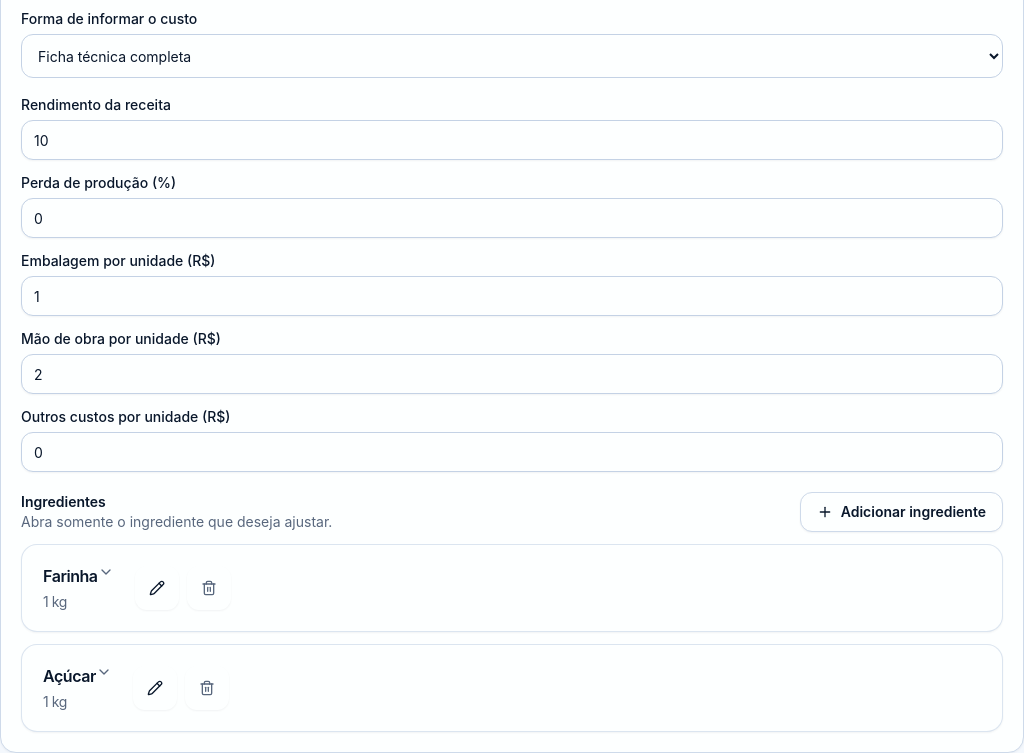
Test: DetailedReportEditorFields › preserves ingredients until removal is confirmed
(page scrolled)
Click the button named "Remover Farinha" at (209, 588), box [187, 566, 231, 610]
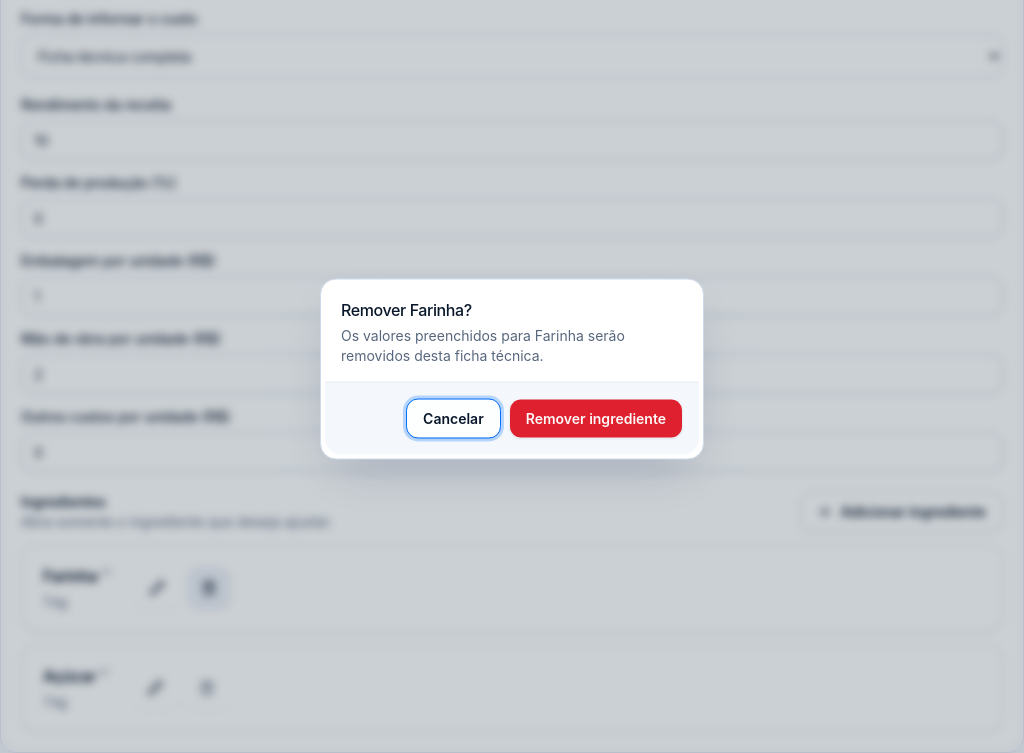
Expected: the text "Farinha" is shown, [43, 564, 98, 588]
Click the button "Cancelar" at (453, 418), box [406, 398, 501, 438]
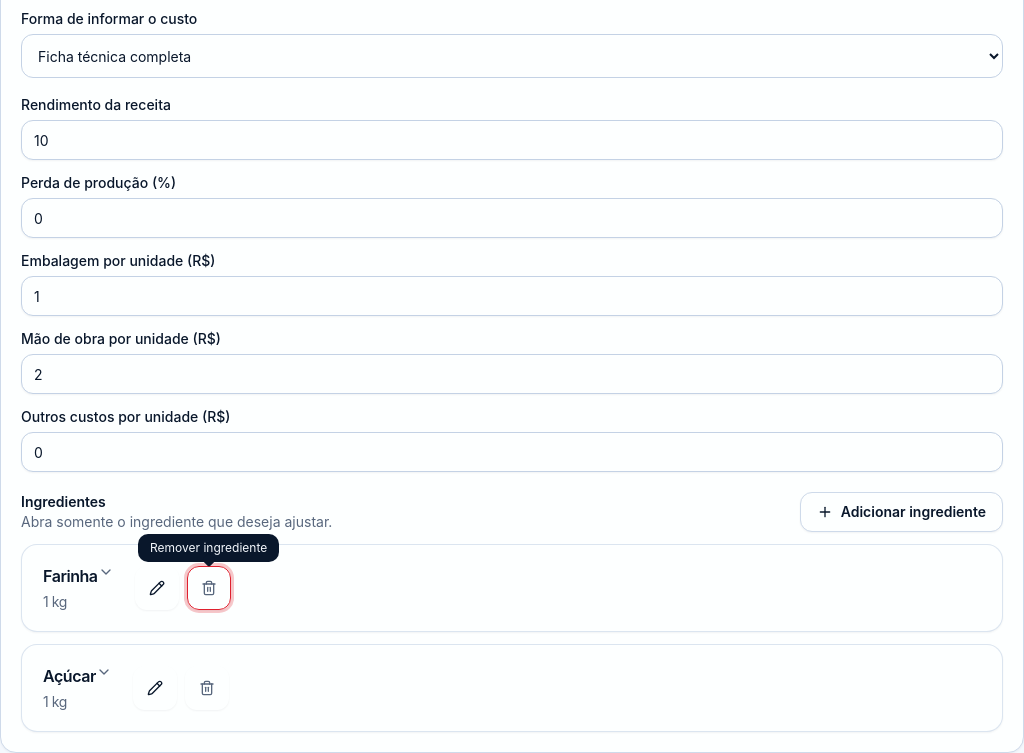
Expected: the text "Farinha" is shown, [43, 564, 98, 588]
Click the button named "Remover Farinha" at (209, 588), box [187, 566, 231, 610]
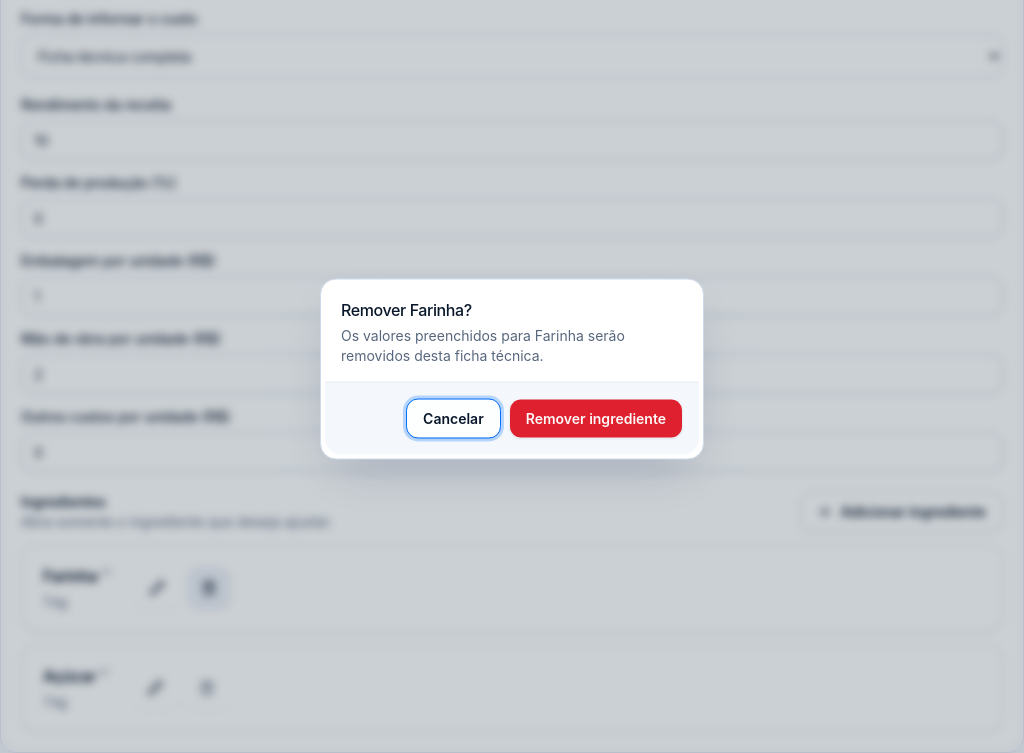
Click the button "Remover ingrediente" at (596, 418), box [509, 398, 683, 438]
(page scrolled)
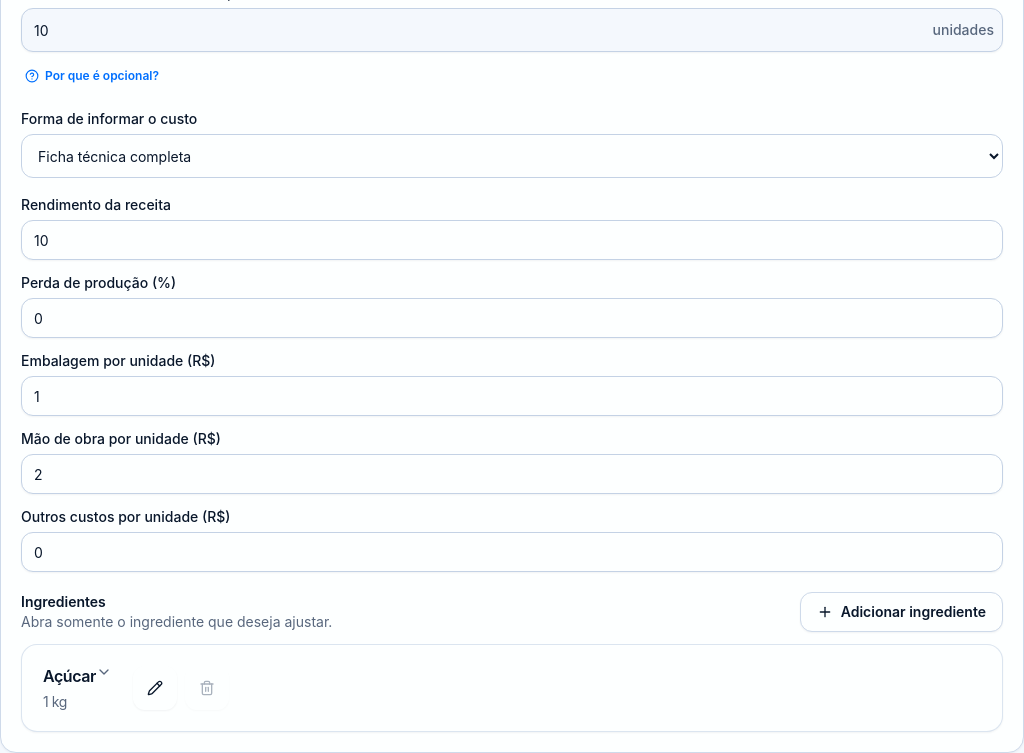
Expected: the text "Açúcar" is shown, [43, 664, 96, 688]
Result: the heading "Remover Farinha" is gone
